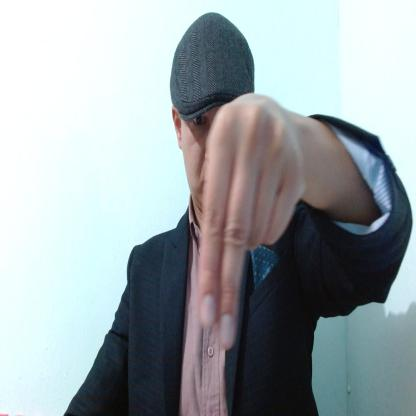N: (198, 92, 308, 352)
